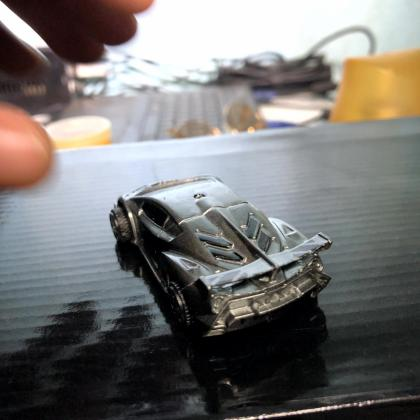Car: (104, 167, 338, 342)
